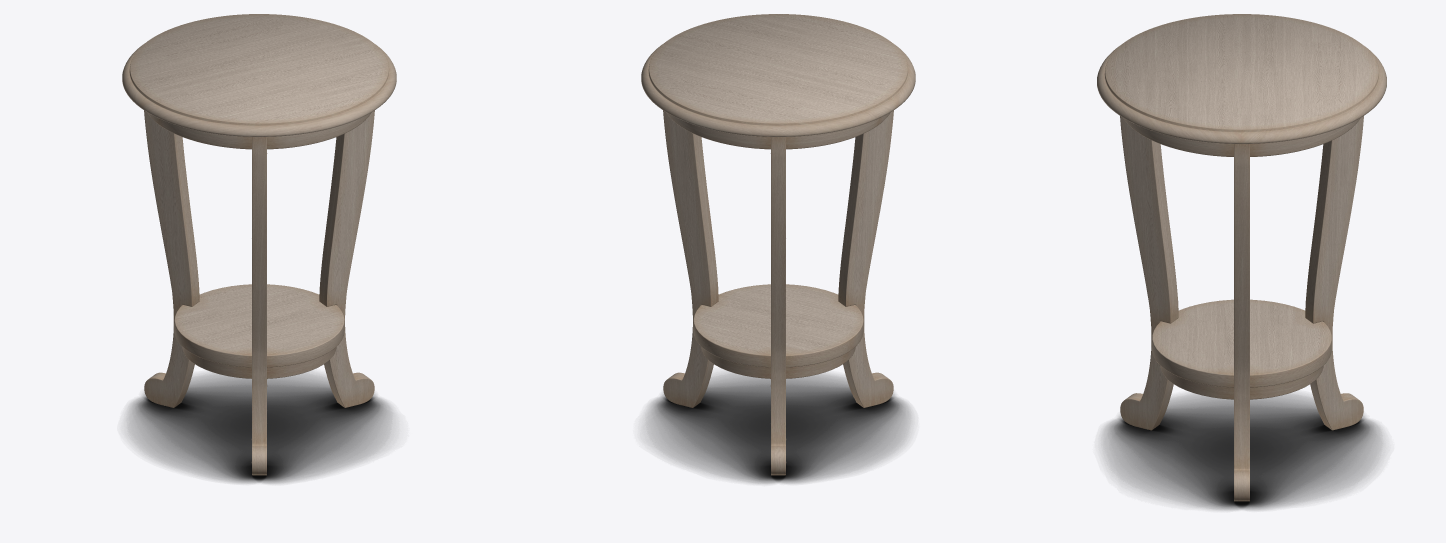
3 views of the same model, side by side, from view 1: azimuth 30°, elevation 25°; view 2: azimuth 150°, elevation 25°; view 3: azimuth 270°, elevation 25° (orthographic). The views are drawn at different scales.
Visible parts, largest first — view 1: Table, Table_Shadow; view 2: Table, Table_Shadow; view 3: Table, Table_Shadow.
Boxes of the visible parts, x1,y1,x2,y2 form: Table: [122, 14, 396, 475]; Table_Shadow: [126, 372, 394, 483]; Table: [641, 14, 915, 475]; Table_Shadow: [643, 372, 911, 483]; Table: [1097, 14, 1386, 501]; Table_Shadow: [1101, 393, 1383, 510].
Bounding box in the file's own units: 0.6 × 0.6584 × 0.6.
2 materials, 2 textured.
